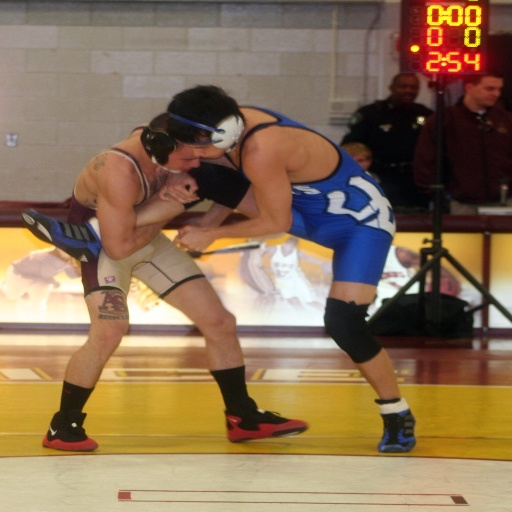hand: (157, 172, 201, 204), (172, 224, 214, 252), (179, 219, 209, 230)
